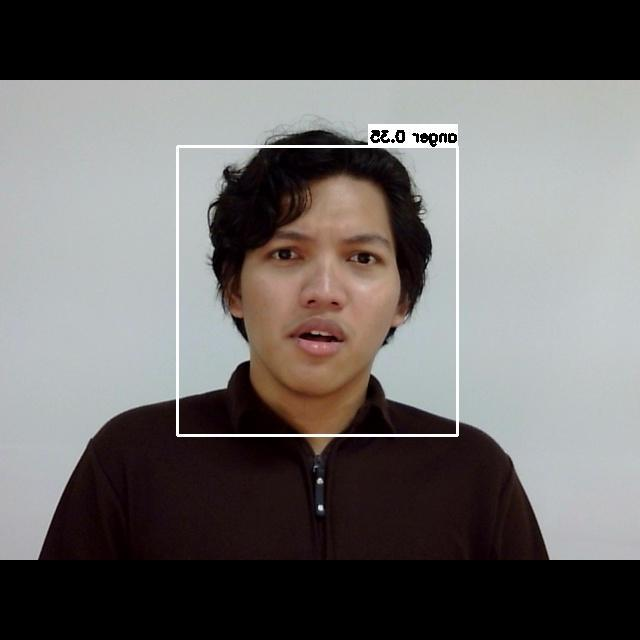Surprised: (233, 196, 401, 385)
